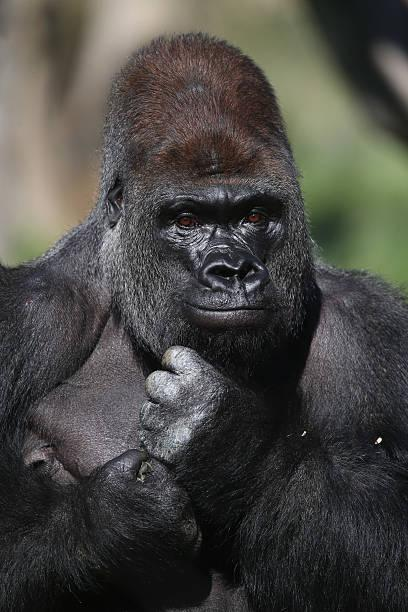gorille_Autres: (3, 16, 408, 612)
